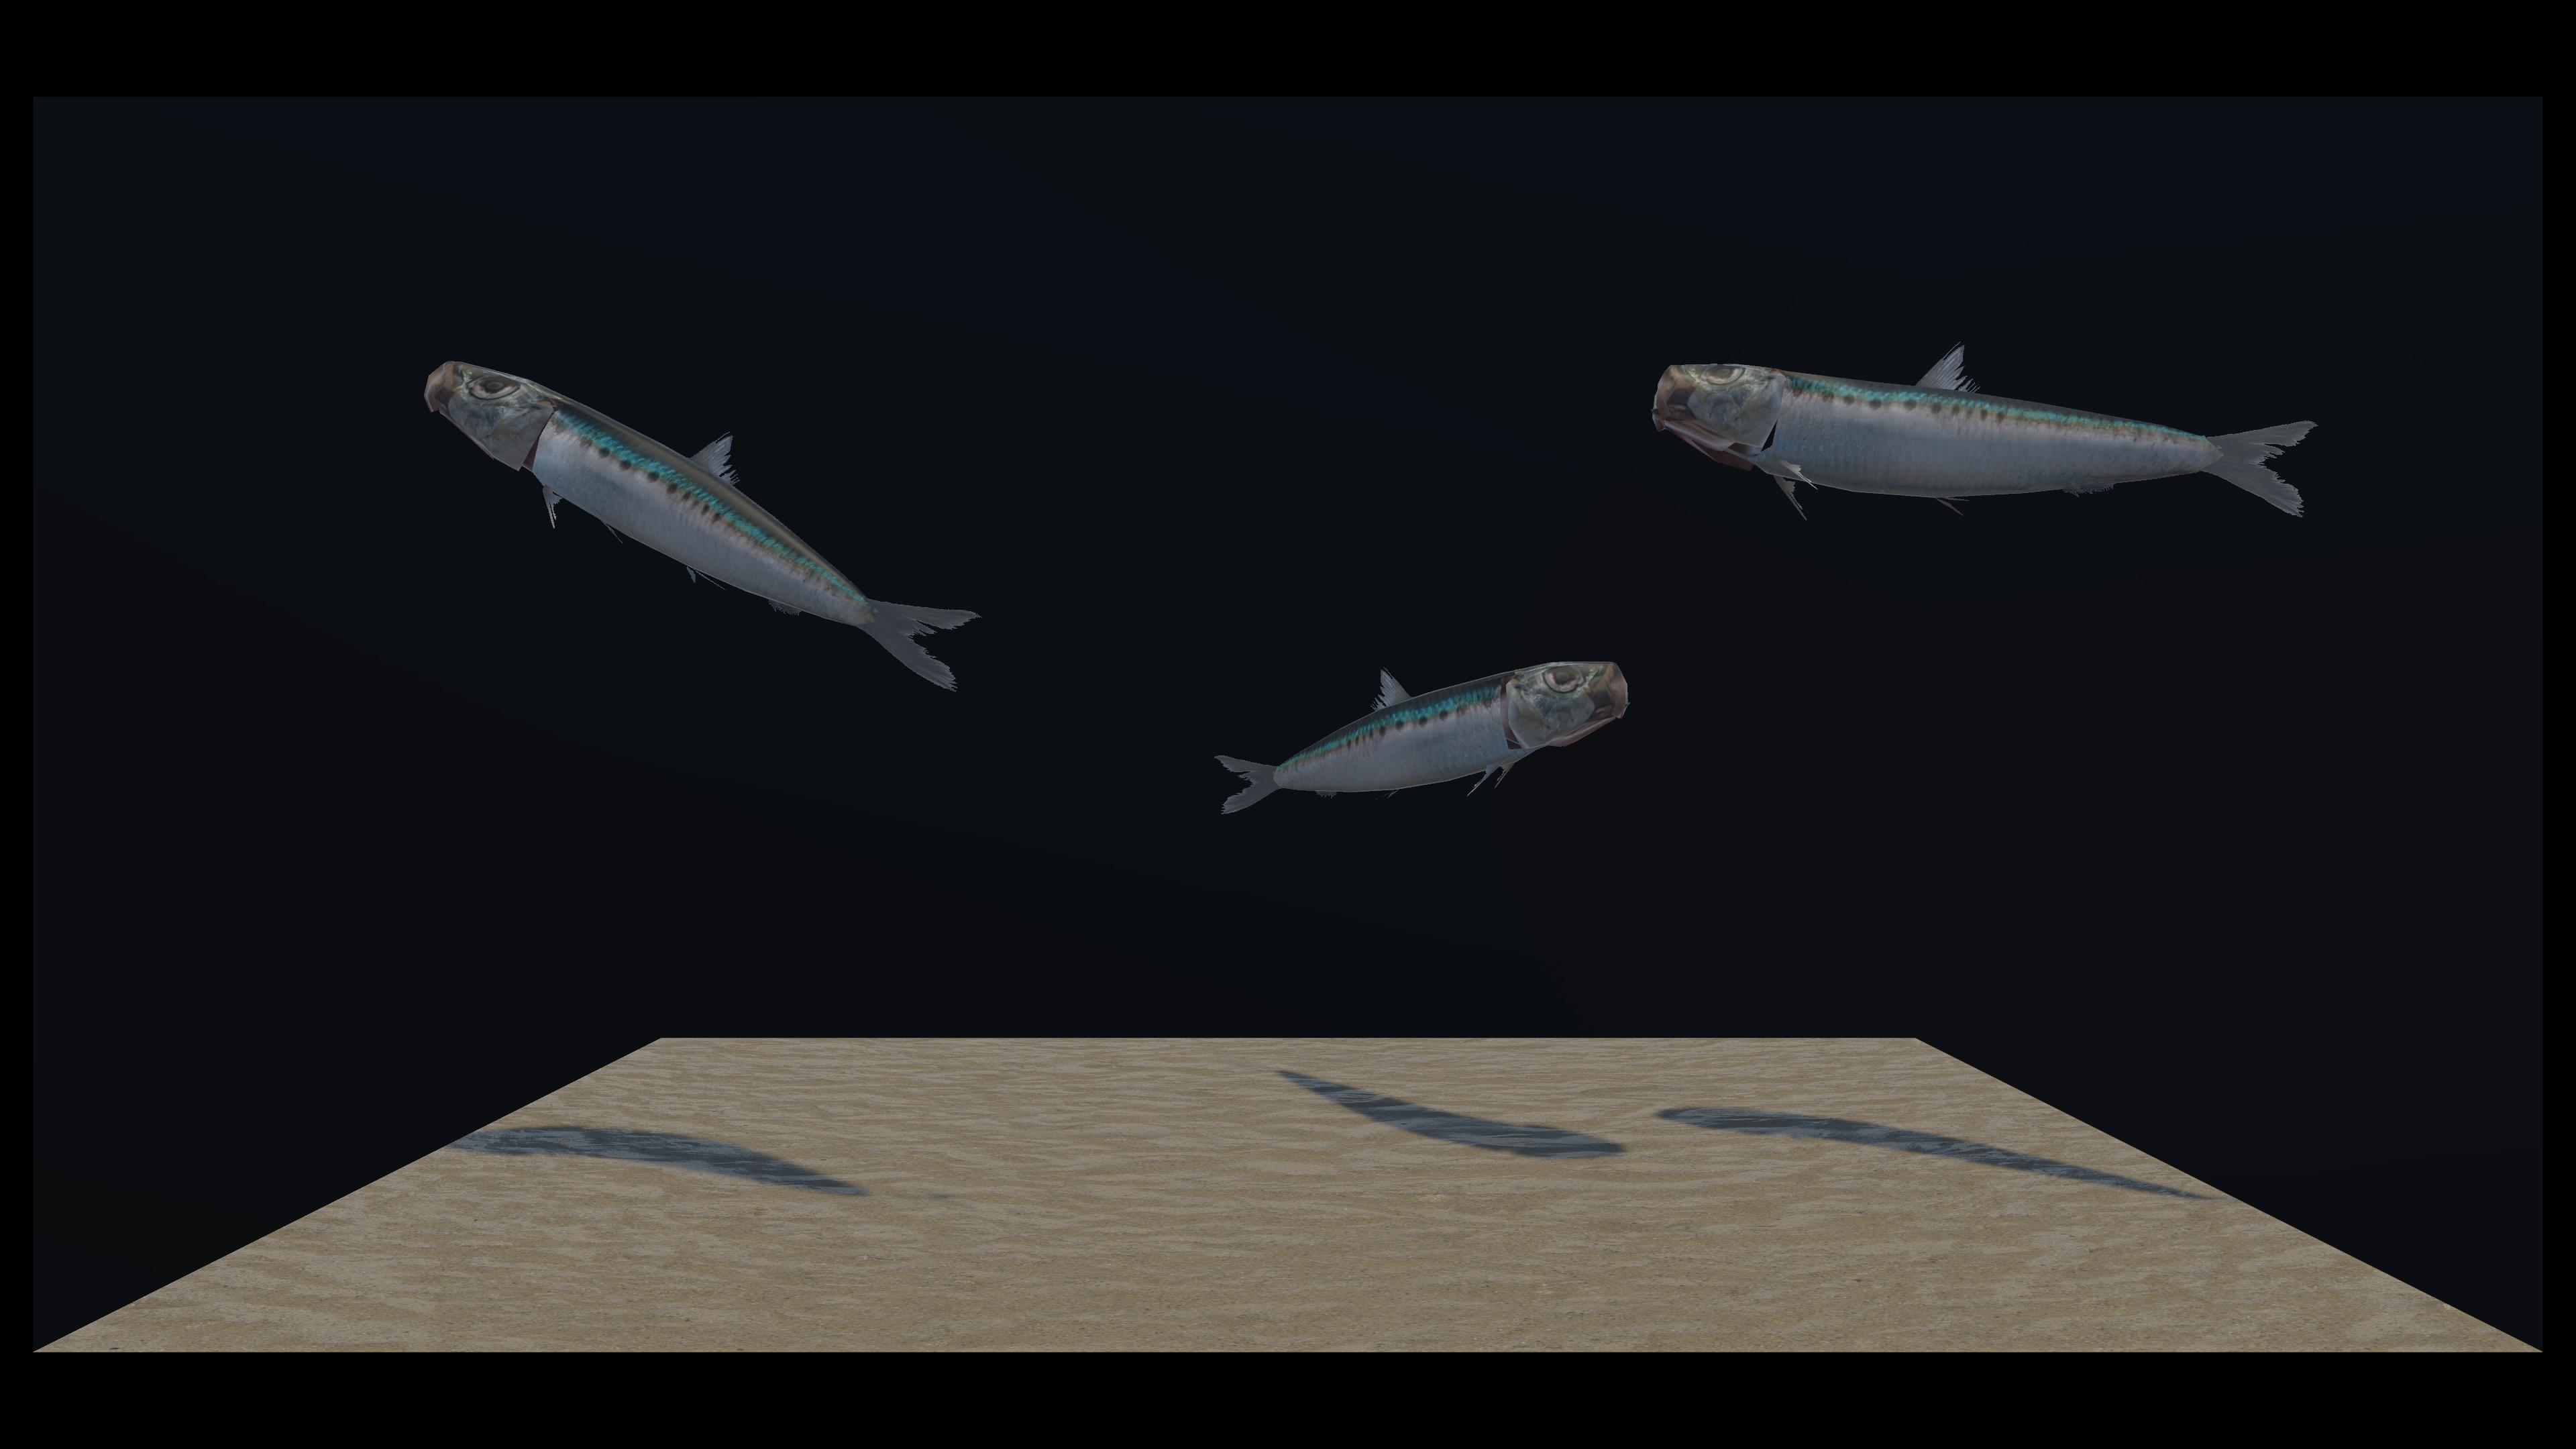Sardine_Front: (679, 377, 1610, 816), (915, 356, 2312, 527), (462, 363, 970, 688)
